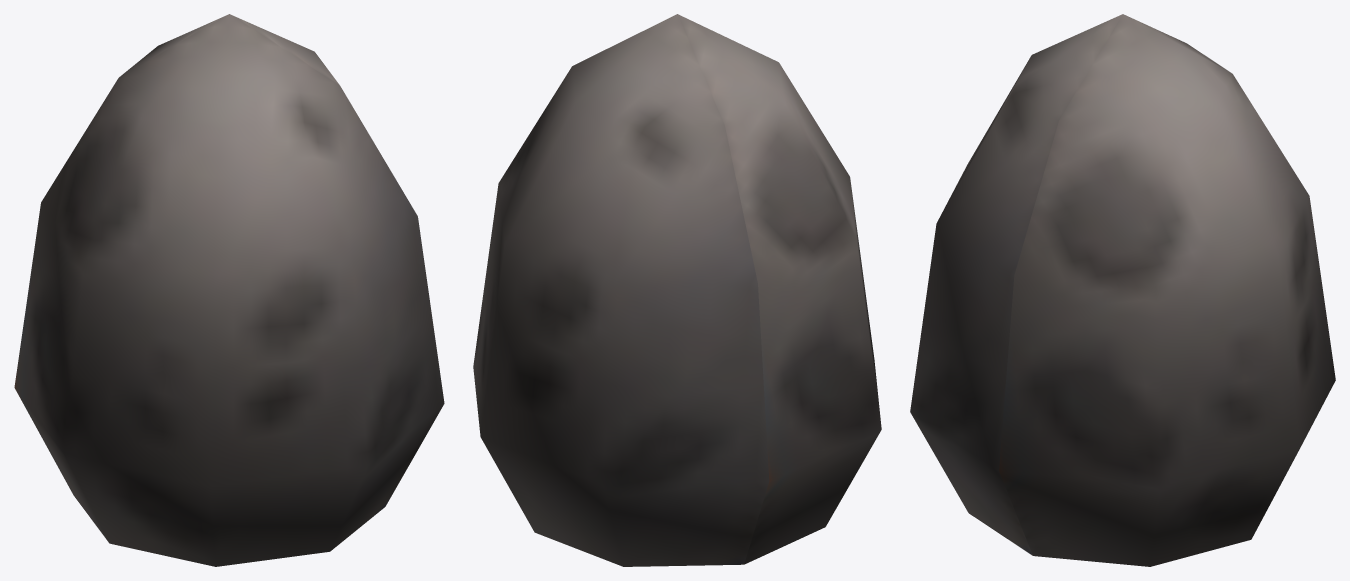
The model's file is follower_egg_3.FBX.
3 renders of one model, left to right at view 1: azimuth 30°, elevation 25°; view 2: azimuth 150°, elevation 25°; view 3: azimuth 270°, elevation 25°, orthographic.
Parts seen in each view (by area): view 1: follower_egg_3; view 2: follower_egg_3; view 3: follower_egg_3.
Part boxes in pixels (<box>): follower_egg_3: <box>14,14,444,566</box>; follower_egg_3: <box>473,14,881,566</box>; follower_egg_3: <box>910,14,1335,566</box>.
Bounding box in the file's own units: 10.1 × 14.05 × 10.1.
